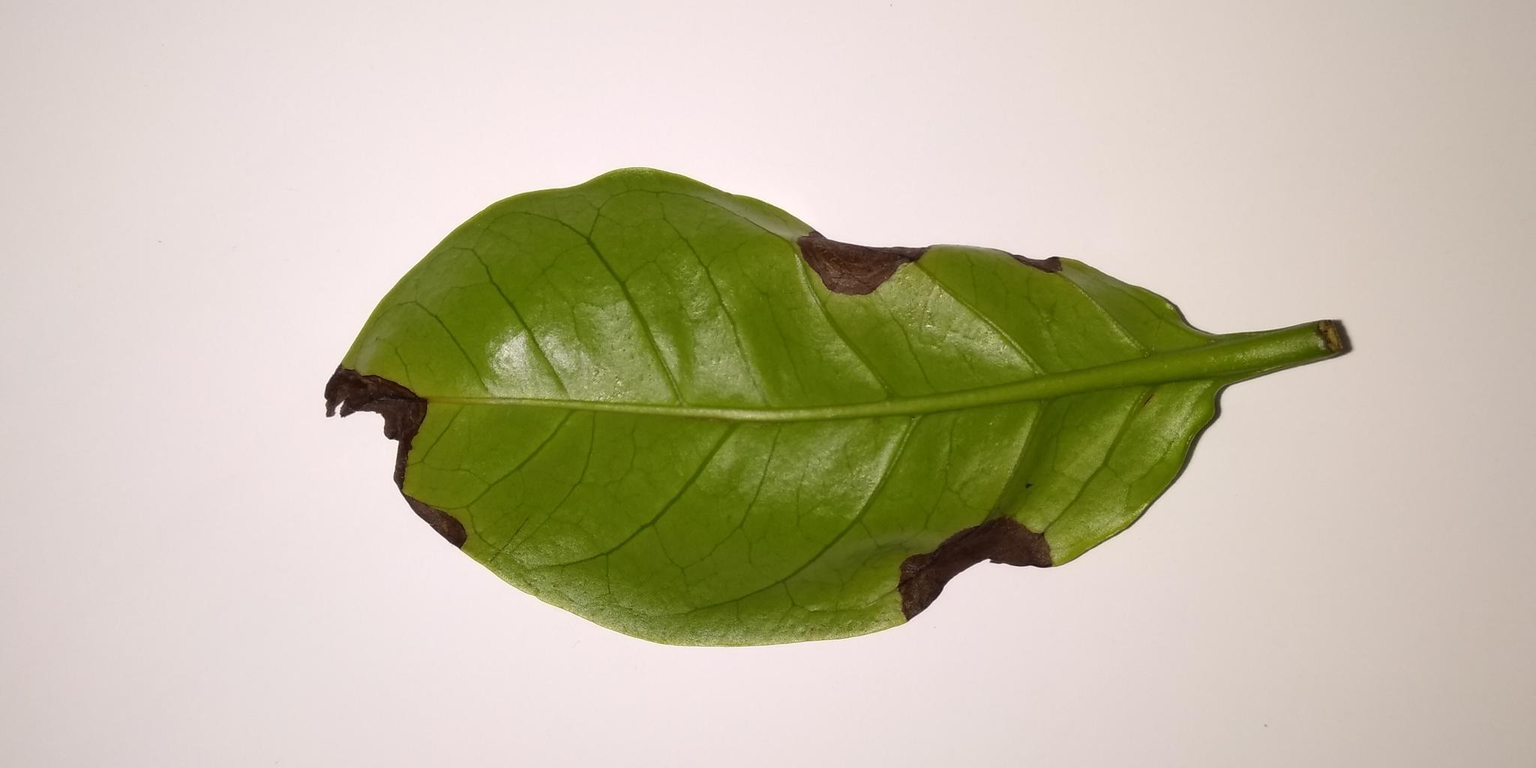Phoma: (304, 344, 477, 562), (874, 495, 1065, 639), (786, 210, 942, 311)
